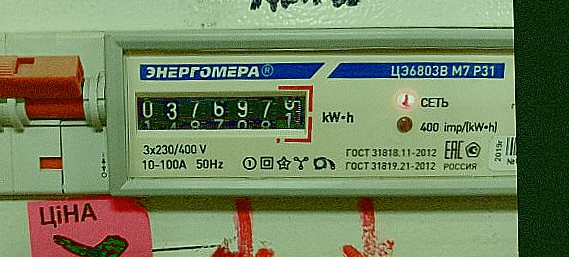0: (140, 97, 154, 118)
1: (283, 109, 294, 128)
3: (164, 99, 178, 119)
6: (211, 95, 225, 116)
7: (187, 96, 201, 118), (259, 96, 272, 118)
9: (235, 96, 248, 118)
screen: (127, 79, 318, 146)
